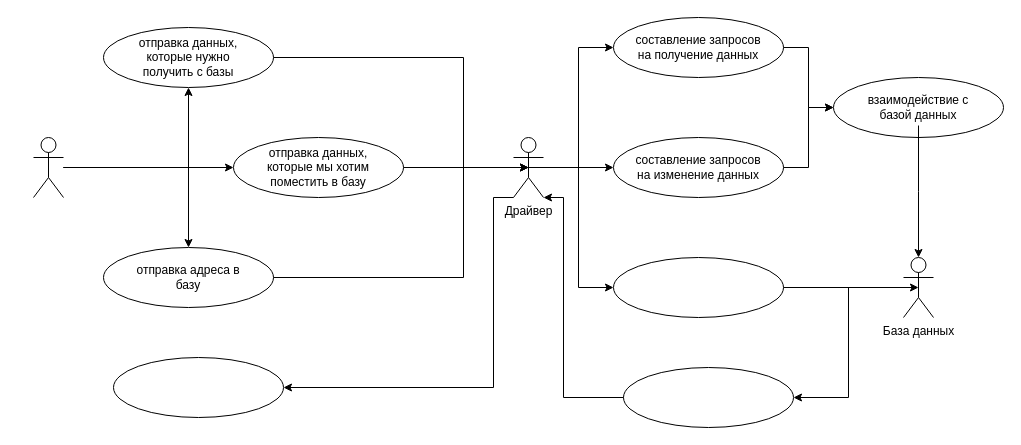
Image size: 1021x445. Some labels were removed from this diagram. The shapes that lost their labels are listed below. From the top down, each one's centre as x and y in pixels, then its label:
At point 48,167: "Программа".
At point 698,287: "установка соединения с базой".
At point 198,387: "Перевод ответа в нужный формат".
At point 708,397: "проверка ответа".
